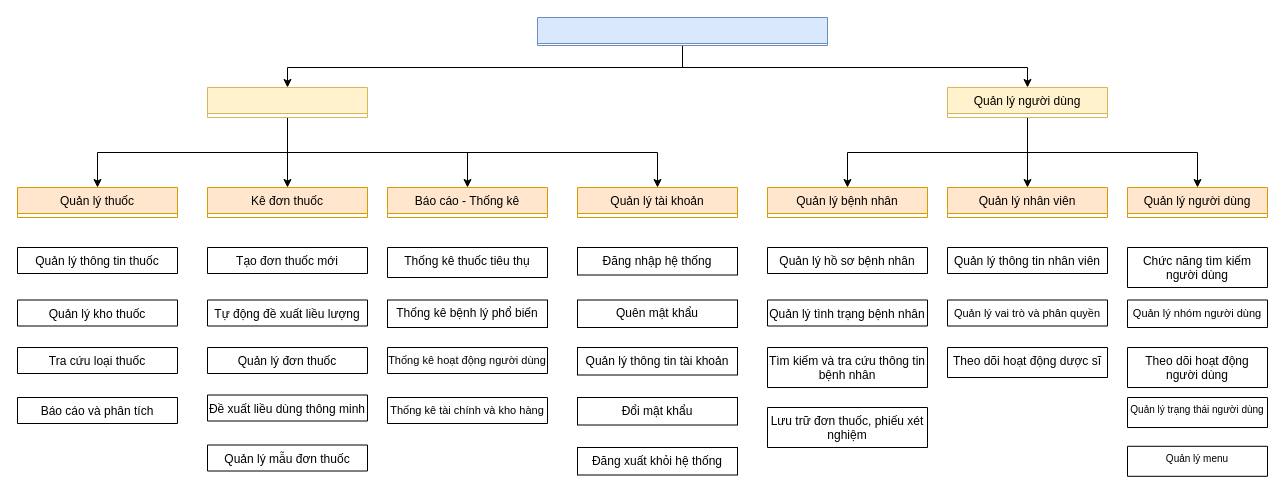
The diagram is 1285 pixels wide and 498 high, and some of its shapes have lost their labels. The centre of each missing label's shape, as x and y in pixels:
"Quy trình nghiệp vụ" goes at (x=287, y=102).
"Quản lý CSDL hiệu thuốc, tư vấn kê đơn chữa trị" goes at (x=682, y=31).
